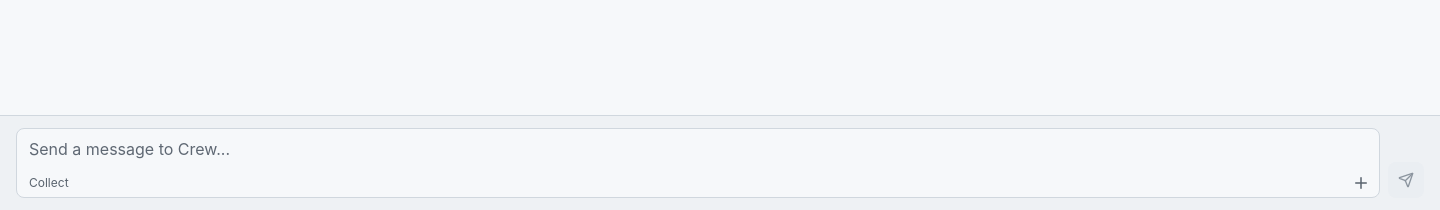
it: ⌘ memory popover — stale cold GET does not clobber a fresh write › opening the 「＋」 menu closes the memory popover (no stacked layers on the same anchor)
Click the button named "更多" at point(1361, 183), box [1347,169,1375,197]
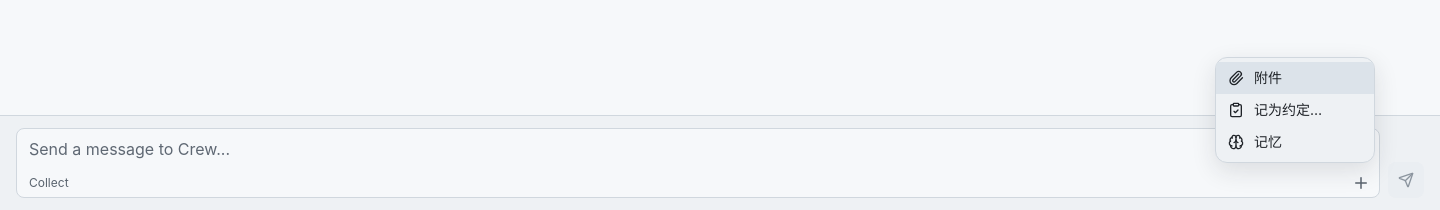
Click the menu item with aria-label "memory" at point(1295, 142), box [1216,126,1374,158]
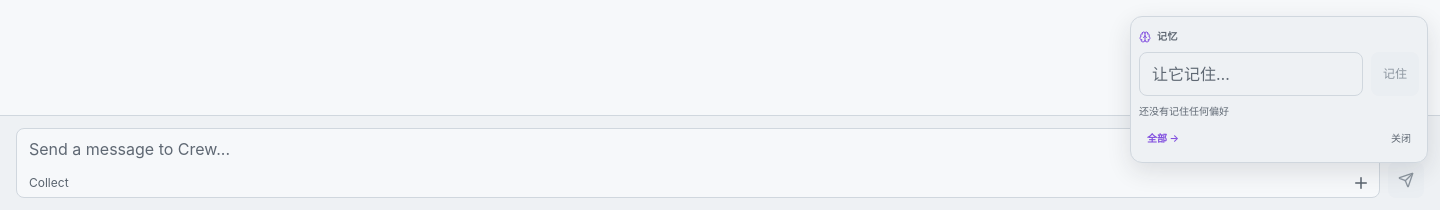
Check: the field named "memory draft" is shown, box [1139,52,1363,96]
Click the button named "更多" at point(1361, 183), box [1347,169,1375,197]
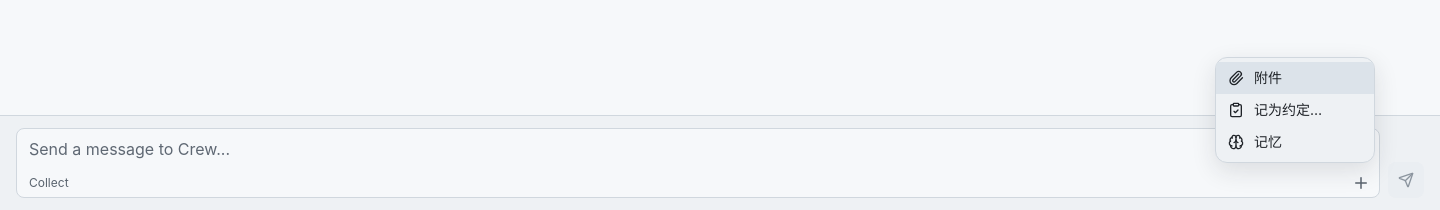
Check: the menu is shown, box [1216,62,1374,158]
